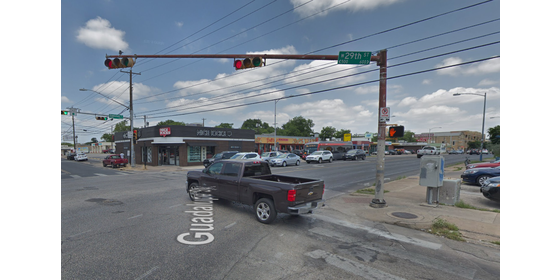red parking tow sign: (380, 105, 392, 127)
street name sign: (339, 48, 373, 68)
